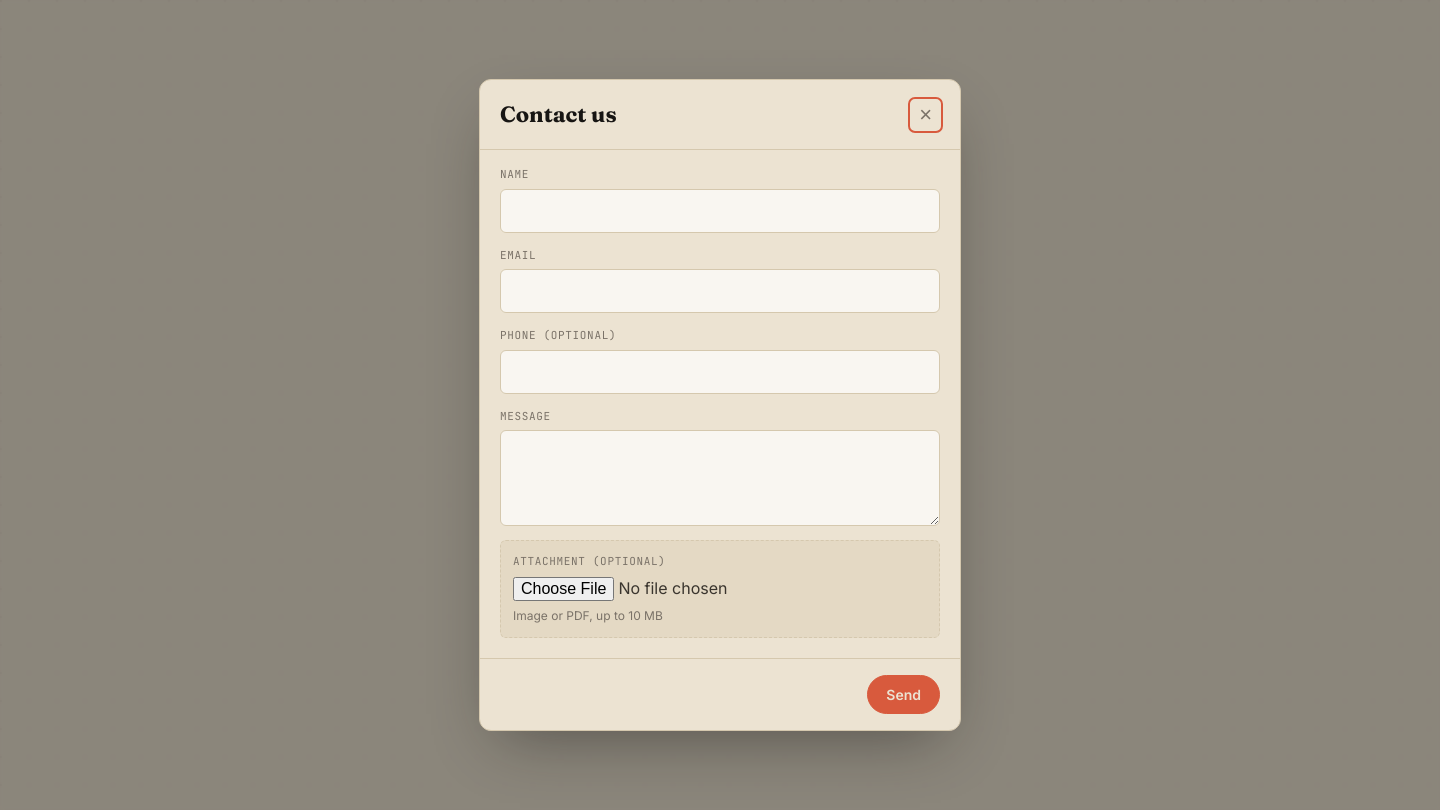
Test: ContactDialog (authenticated) › reports an error when the upload fails
This screenshot has width=1440, height=810.
In the field labelled "Name": (720, 211) [500, 189, 940, 233], type "Ada"
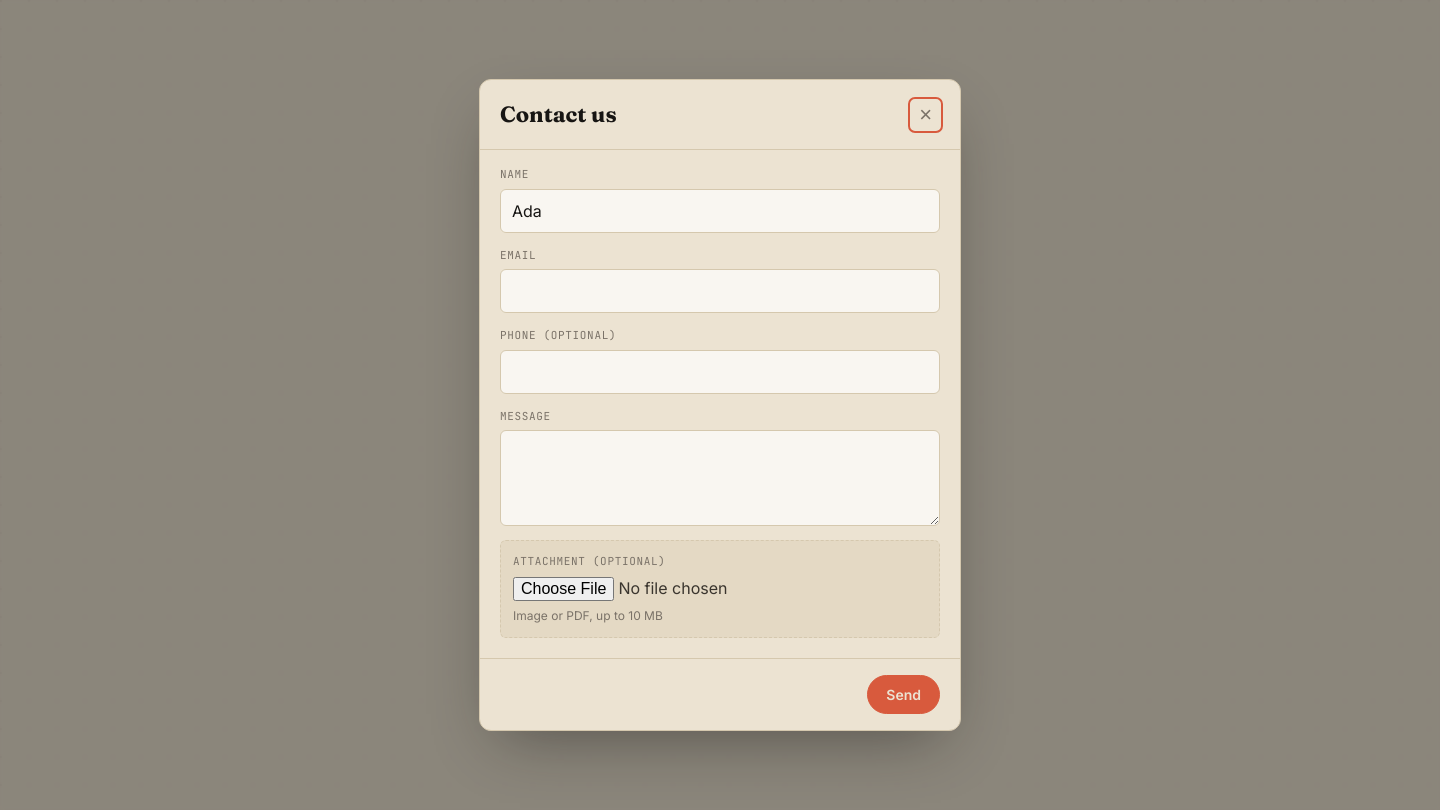
In the field labelled "Email": (720, 291) [500, 269, 940, 313], type "ada@example.com"
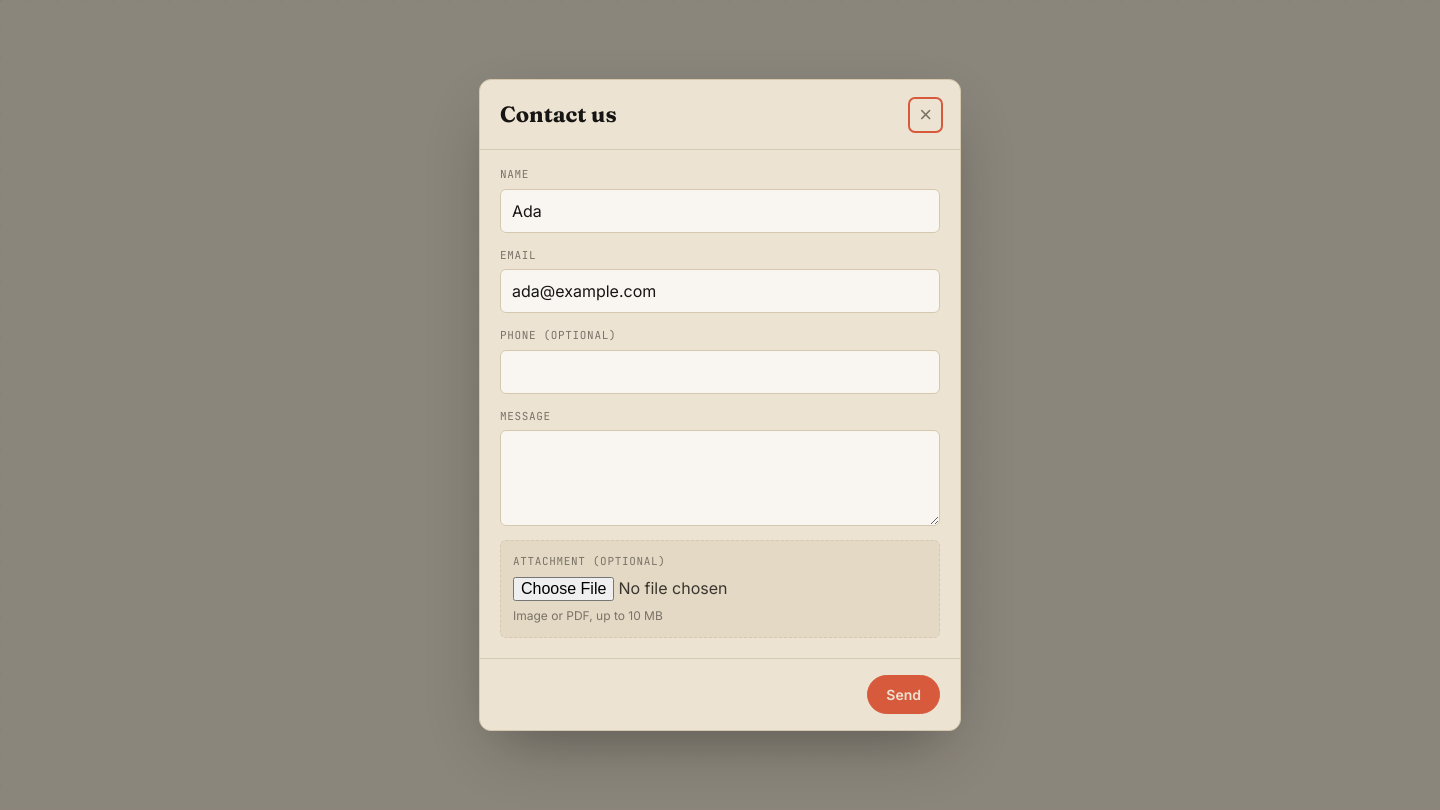
In the text box labelled "Message": (720, 478) [500, 430, 940, 526], type "hello"
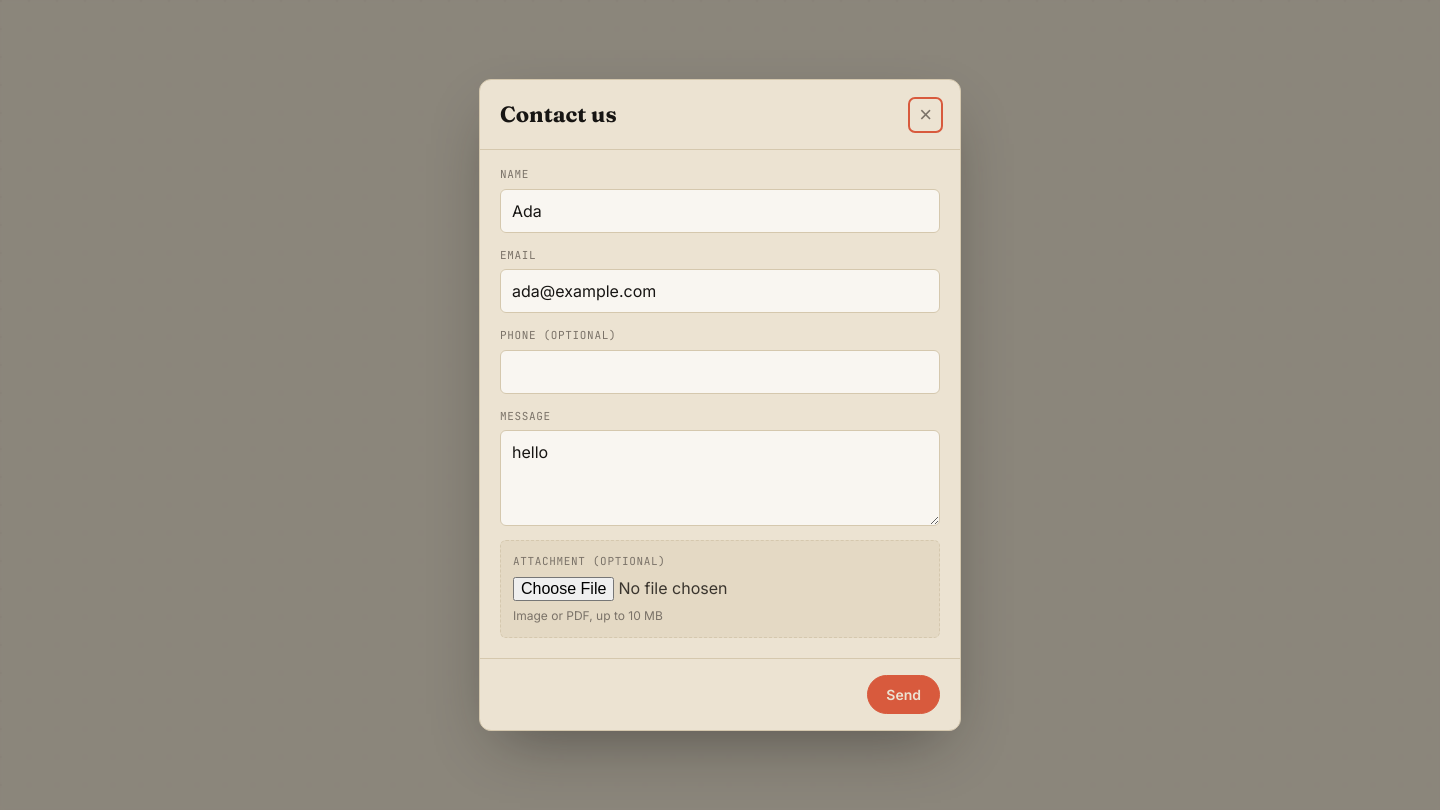
Click the button "Send": (904, 694) [867, 675, 940, 714]
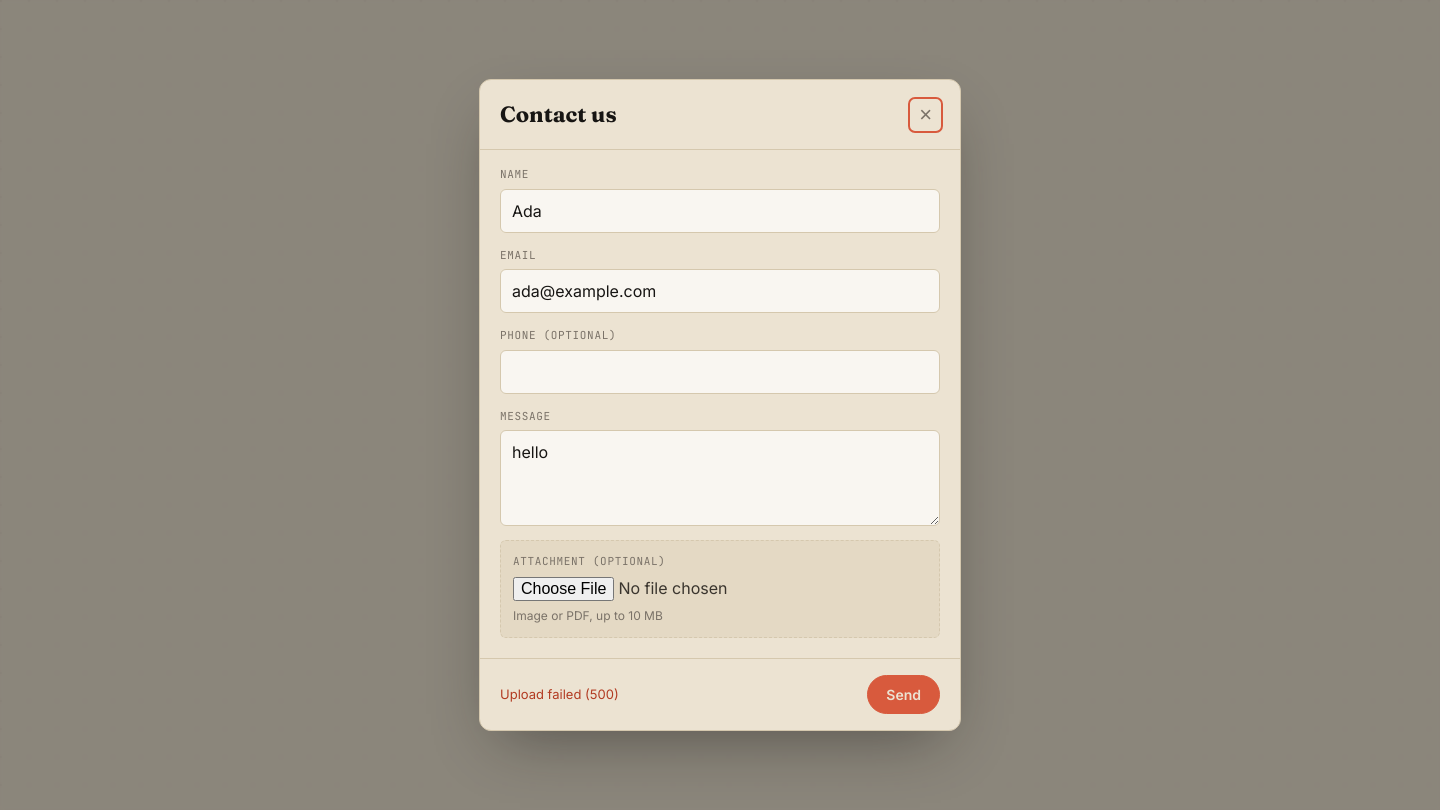
Result: the message reads "Upload failed (500)" at [500, 686, 619, 702]
